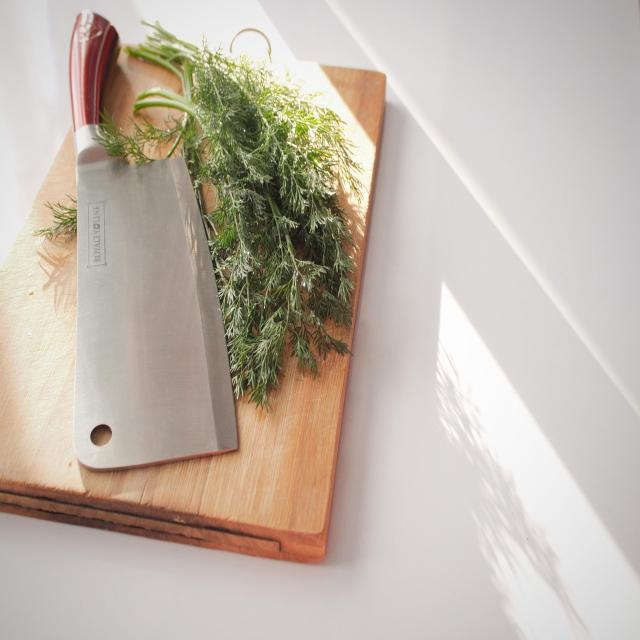Knife: (70, 11, 237, 470)
